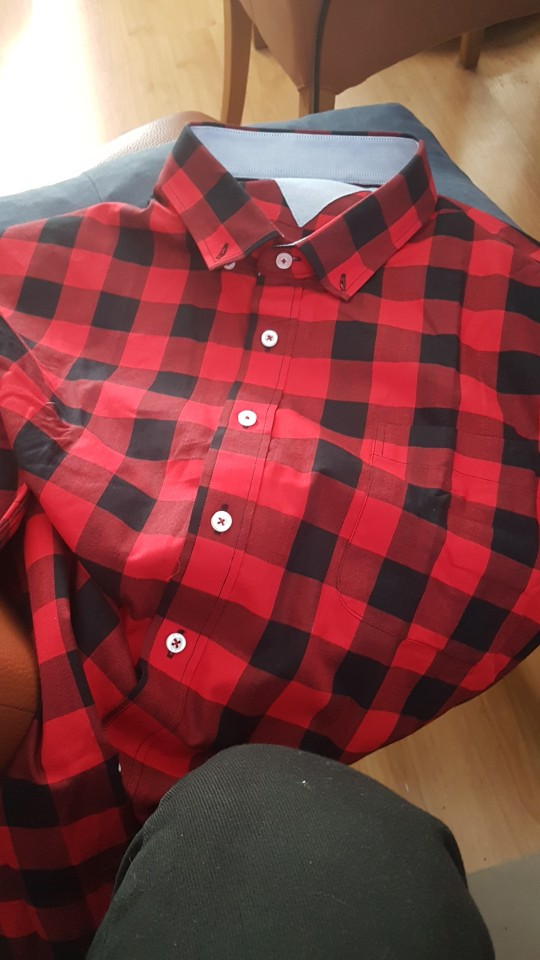shirts: (1, 122, 540, 799)
